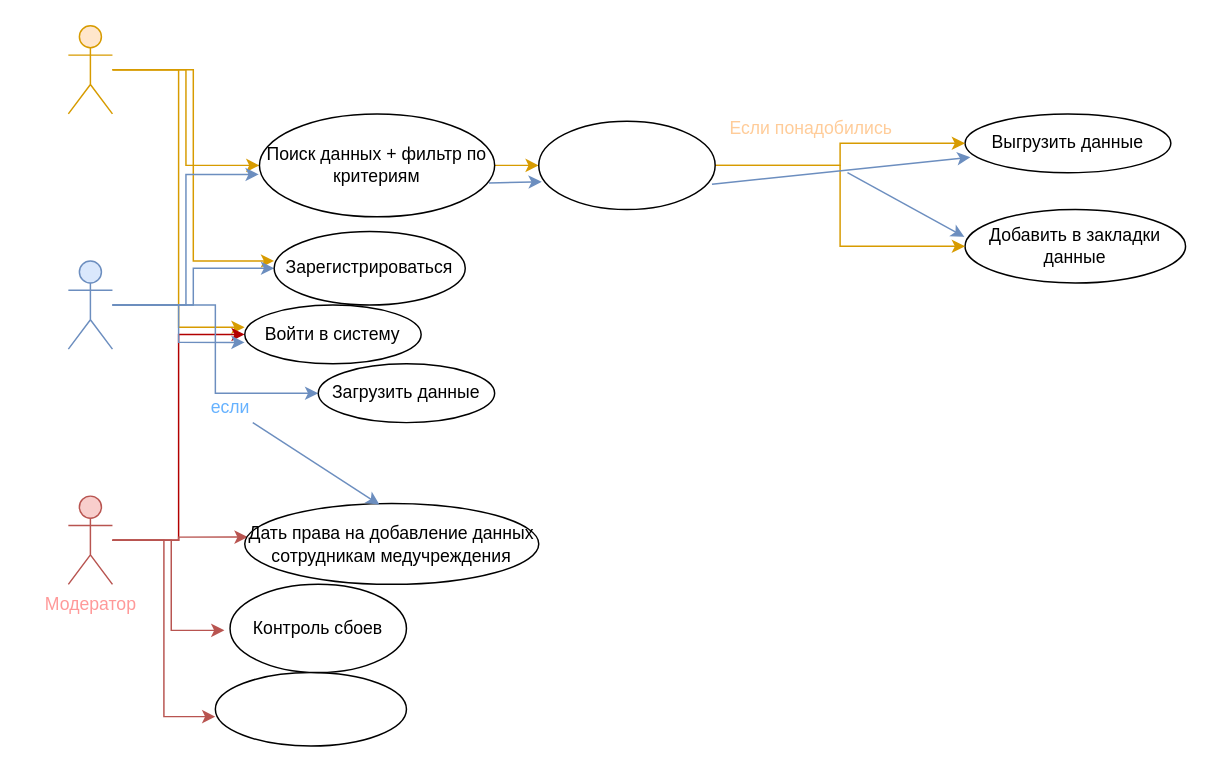
The diagram is 1211 pixels wide and 772 high, and some of its shapes have lost their labels. The centre of each missing label's shape, as x and y in pixels:
"Ограничить доступ нарушителям" goes at point (310, 708).
"Пользователь" goes at point (89, 69).
"Смотреть данные/графики" goes at point (626, 164).
"Сотрудник медучреждения" goes at point (89, 304).
